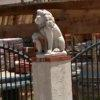Statue: (26, 6, 71, 50)
